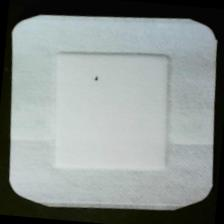Dressing: (1, 4, 224, 223)
F_Body: (84, 68, 109, 92)
